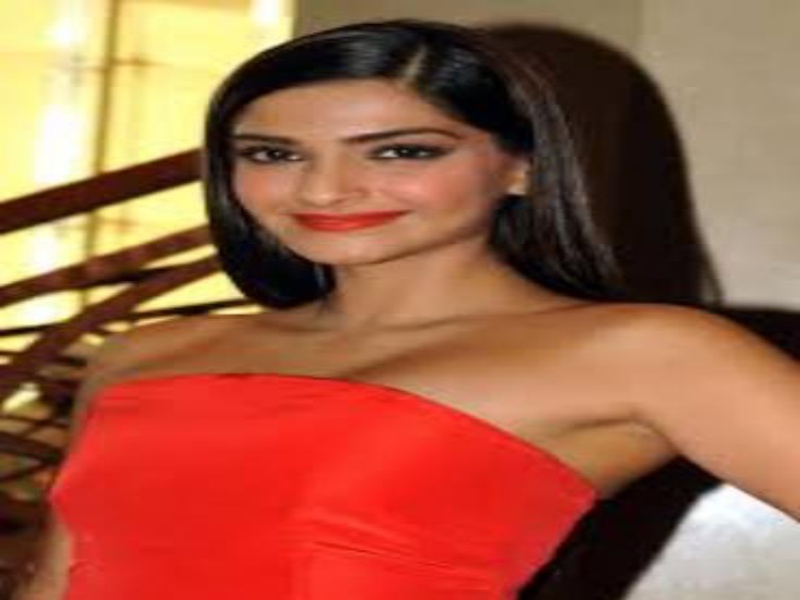TsisyArotava: (200, 34, 530, 273)
